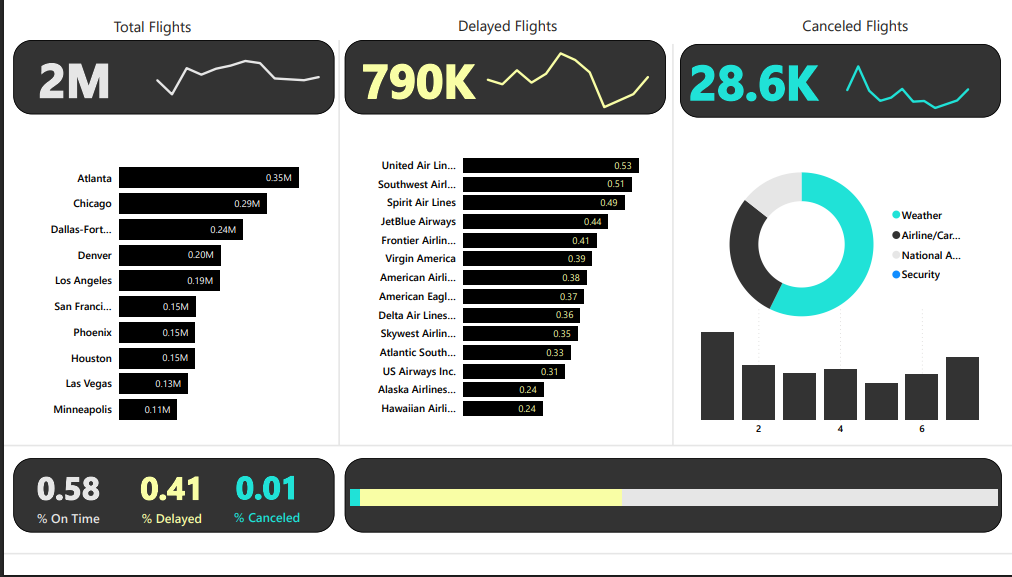

What the dashboard file says about the page in this screenshot:
{"tool":"powerbi","page":{"name":"Page 1","canvas":[1280,720],"ordinal":0},"visuals":[{"type":"shape","box":[12.9,47.1,407.1,94.3],"z":0},{"type":"shape","box":[858.3,51.7,406.7,93.3],"z":1000},{"type":"shape","box":[432.9,47.1,407.1,94.3],"z":2000},{"type":"card","fields":{"Values":["flights.Total Flights"]},"box":[0,45.6,182.2,95.6],"z":3000},{"type":"textbox","box":[114,12,151.3,35.3],"z":4000},{"type":"lineChart","fields":{"Category":["flights.MONTH"],"Y":["flights.Total Flights"]},"box":[162.2,47.8,308.9,93.3],"z":5000},{"type":"card","fields":{"Values":["flights.Delayed Flights"]},"box":[433.3,47.8,185.6,93.3],"z":6000},{"type":"lineChart","fields":{"Y":["flights.Delayed Flights"],"Category":["flights.MONTH"]},"box":[581.1,46.7,306.7,94.4],"z":7000},{"type":"textbox","box":[563.8,11.2,151.2,35],"z":8000},{"type":"textbox","box":[985,11,191,35],"z":9000},{"type":"card","fields":{"Values":["flights.Cancelled Flights"]},"box":[858.9,47.8,183.3,96.7],"z":10000},{"type":"lineChart","fields":{"Category":["flights.MONTH"],"Y":["flights.Cancelled Flights"]},"box":[1041.1,52.2,238.9,93.3],"z":11000},{"type":"shape","box":[12.9,577.1,407.1,94.3],"z":12000},{"type":"shape","box":[432.9,577.1,832.9,94.3],"z":13000},{"type":"card","fields":{"Values":["flights.% Canceled"]},"box":[265,576.2,140,95],"z":14000},{"type":"card","fields":{"Values":["flights.% Delayed"]},"box":[144.4,576.7,140,94.4],"z":15000},{"type":"card","fields":{"Values":["flights.% On Time"]},"box":[13.3,576.7,140,94.4],"z":16000},{"type":"clusteredBarChart","fields":{"Category":["airports.CITY"],"Y":["flights.Total Flights"]},"box":[43.8,182.5,361.2,363.8],"z":17000},{"type":"clusteredBarChart","fields":{"Category":["airlines.Column2"],"Y":["flights.% Delayed"]},"box":[458.6,174.3,445.7,364.3],"z":18000},{"type":"donutChart","fields":{"Category":["cancellation_codes.Column2"],"Y":["flights.Cancelled Flights"]},"box":[893,113,337,386],"z":19000},{"type":"columnChart","fields":{"Category":["flights.DAY_OF_WEEK"],"Y":["flights.% Canceled"]},"box":[880,371,362,187],"z":20000},{"type":"hundredPercentStackedBarChart","fields":{"Y":["flights.Total Flights"],"Series":["flights.Status"]},"box":[435,576.2,831.2,95],"z":21000},{"type":"shape","box":[401.1,46.7,50,514.4],"z":22000},{"type":"shape","box":[0,546.4,1280,30],"z":23000},{"type":"shape","box":[824.4,52.2,50,508.9],"z":24000},{"type":"shape","box":[0,682.7,1280,30],"z":25000}]}

Visuals, with their boxes in screenshot pixels (x1, y1, x2, y2), scaled from the page's 1280x720 canvas onto the 1012x577 screenshot:
shape: (10,38,332,113)
shape: (679,41,1000,116)
shape: (342,38,664,113)
card - flights.Total Flights: (0,37,144,113)
textbox: (90,10,210,38)
lineChart - flights.MONTH x flights.Total Flights: (128,38,372,113)
card - flights.Delayed Flights: (343,38,489,113)
lineChart - flights.Delayed Flights x flights.MONTH: (459,37,702,113)
textbox: (446,9,565,37)
textbox: (779,9,930,37)
card - flights.Cancelled Flights: (679,38,824,116)
lineChart - flights.MONTH x flights.Cancelled Flights: (823,42,1011,117)
shape: (10,462,332,538)
shape: (342,462,1001,538)
card - flights.% Canceled: (210,462,320,538)
card - flights.% Delayed: (114,462,225,538)
card - flights.% On Time: (11,462,121,538)
clusteredBarChart - airports.CITY x flights.Total Flights: (35,146,320,438)
clusteredBarChart - airlines.Column2 x flights.% Delayed: (363,140,715,432)
donutChart - cancellation_codes.Column2 x flights.Cancelled Flights: (706,91,972,400)
columnChart - flights.DAY_OF_WEEK x flights.% Canceled: (696,297,982,447)
hundredPercentStackedBarChart - flights.Total Flights x flights.Status: (344,462,1001,538)
shape: (317,37,357,450)
shape: (0,438,1011,462)
shape: (652,42,691,450)
shape: (0,547,1011,571)
